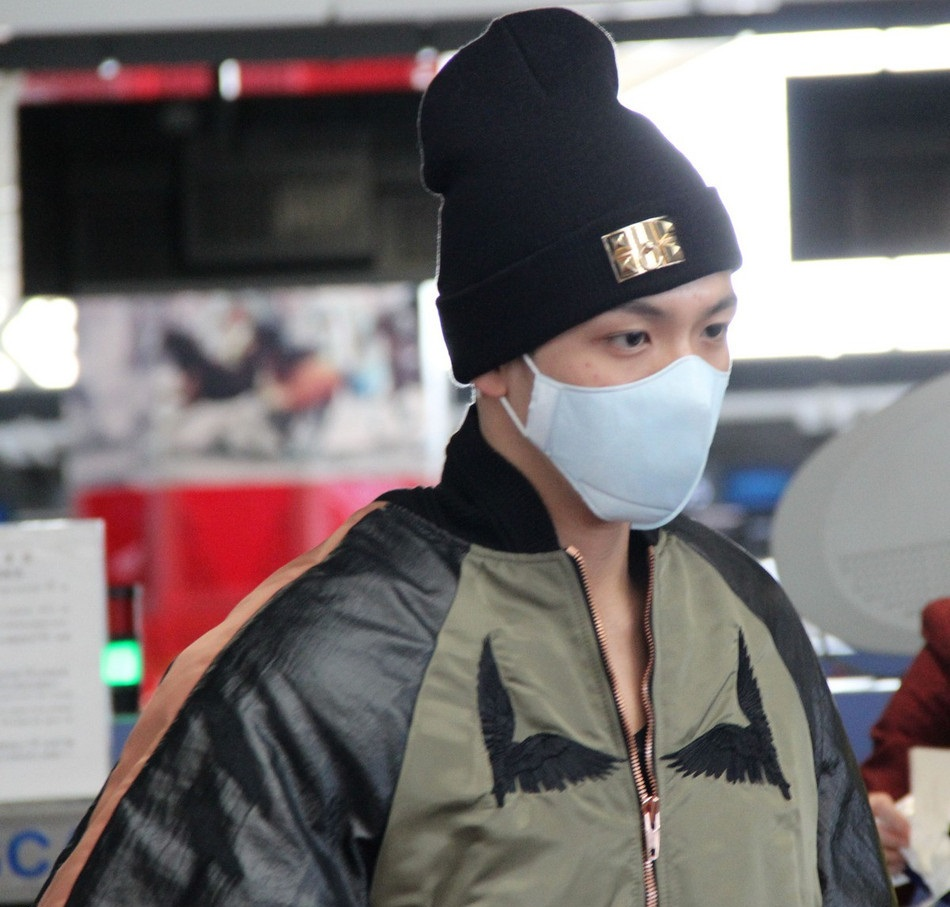face_mask: (528, 239, 736, 530)
